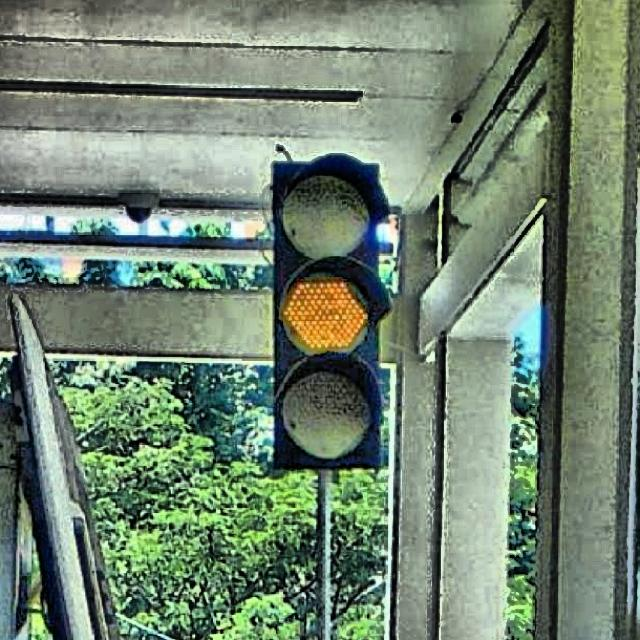yellow: (270, 159, 384, 472)
